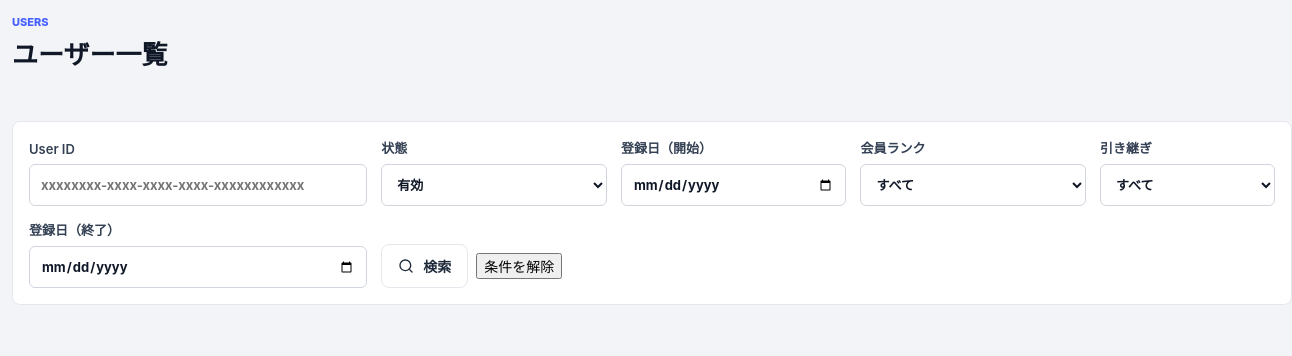
Test case: Admin User Read workspace › rejects an inverted registration date range before loading
The width and height of the screenshot is (1292, 356).
Type "2026-08-31" into the date field labelled "登録日（開始）" at (734, 185), box [621,164,846,206]
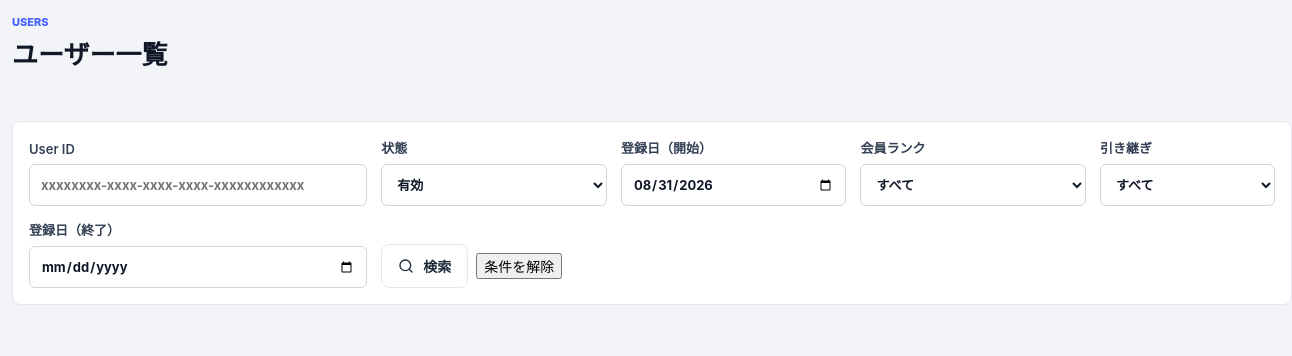
Type "2026-08-01" into the date field labelled "登録日（終了）" at (198, 267), box [29,246,367,288]
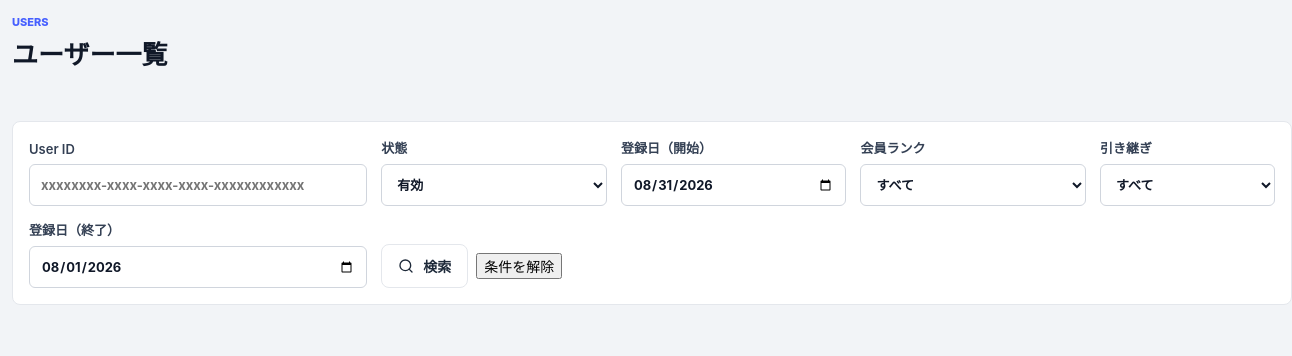
Click the button "検索" at (425, 266), box [381,244,468,288]
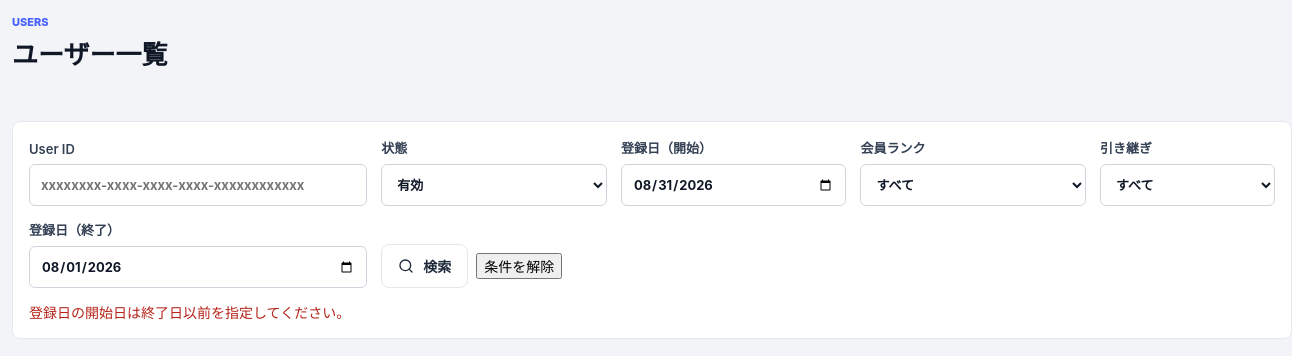
Now the message shows "開始日は終了日以前", box [29,304,350,321]
